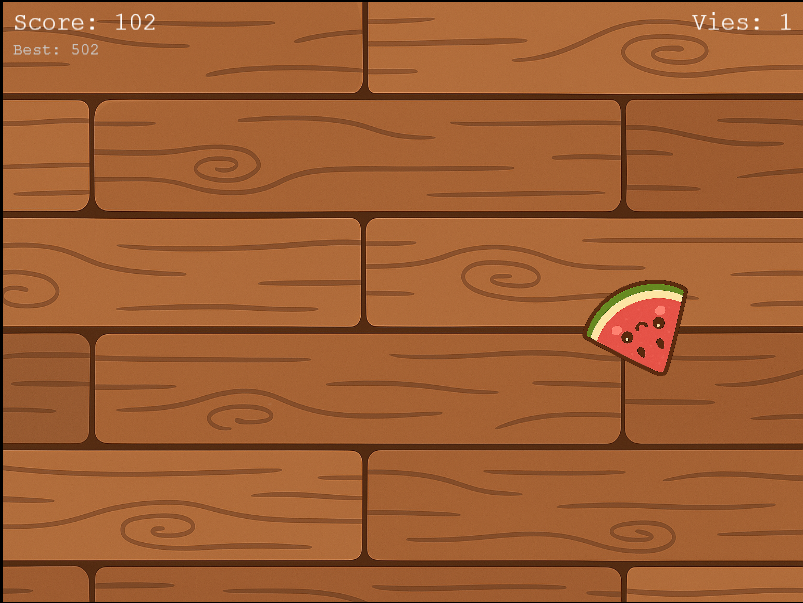fruit: (580, 274, 692, 381)
